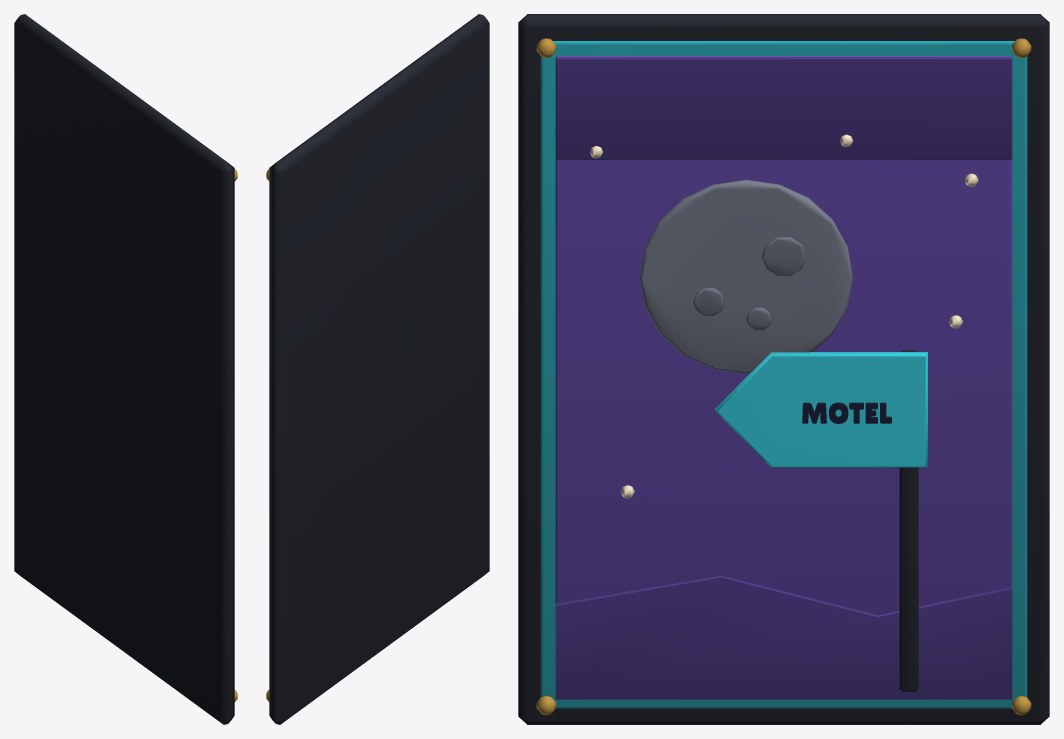
The model's file is SM_Deco_Poster_MoonfallMotel.fbx.
3 renders of one model, left to right at view 1: azimuth 30°, elevation 25°; view 2: azimuth 150°, elevation 25°; view 3: azimuth 270°, elevation 25°, orthographic. The views are drawn at different scales.
Visible parts, largest first — view 1: SM_Deco_Poster_MoonfallMotel; view 2: SM_Deco_Poster_MoonfallMotel; view 3: SM_Deco_Poster_MoonfallMotel.
Part boxes in pixels (<box>): SM_Deco_Poster_MoonfallMotel: <box>14,14,237,724</box>; SM_Deco_Poster_MoonfallMotel: <box>266,14,489,724</box>; SM_Deco_Poster_MoonfallMotel: <box>518,14,1049,724</box>.
Bounding box in the file's own units: 16.28 × 250 × 170.
